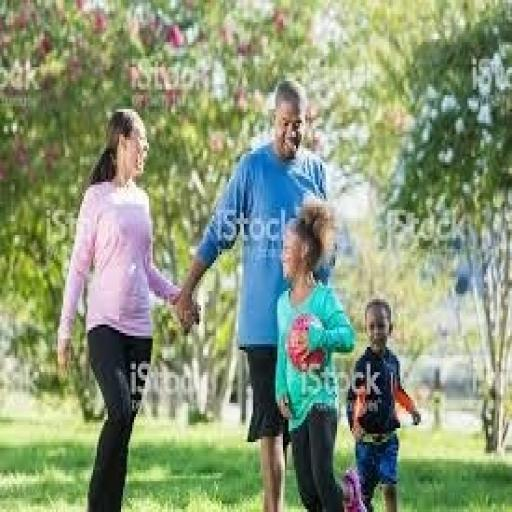running: (172, 76, 346, 509), (54, 106, 201, 510), (272, 196, 356, 509), (342, 297, 422, 509)
